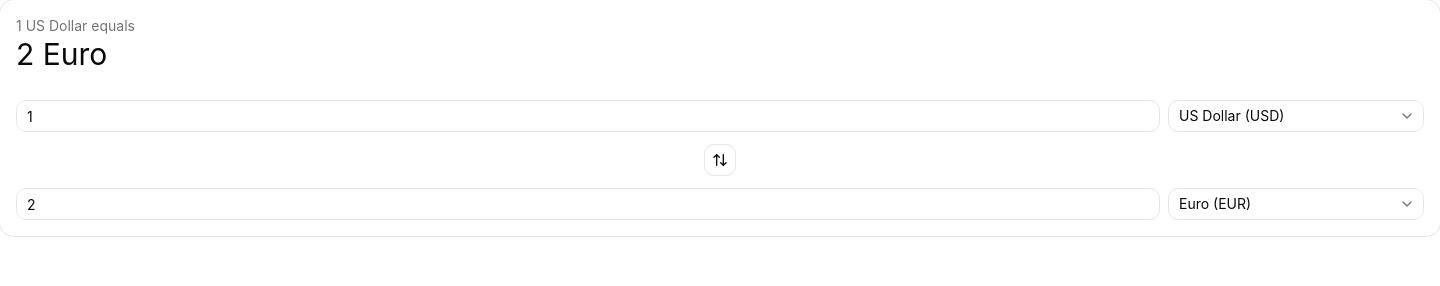
Scenario: CurrencyConverter › shows an error for a negative amount
The image size is (1440, 286).
Replace the text in the number field named "Amount" with "-3": {"x": 588, "y": 116} [16,100,1160,132]
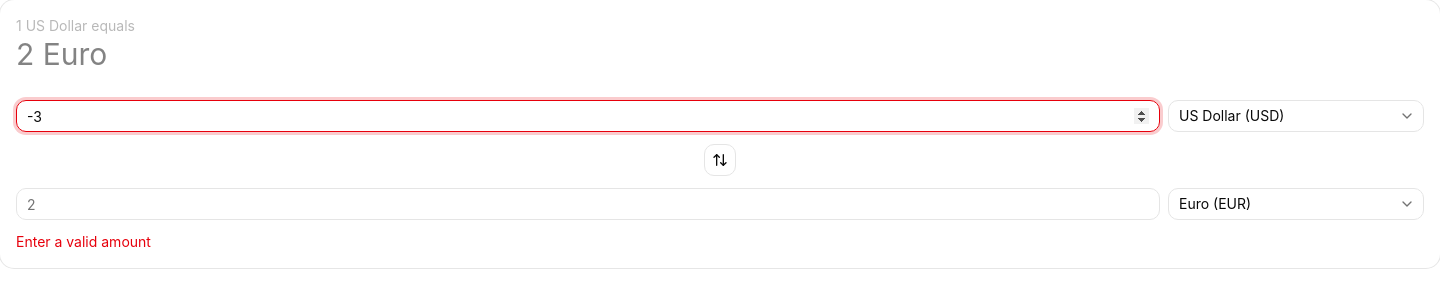
Expected: the text "Enter a valid amount" is shown, [16,233,151,250]
